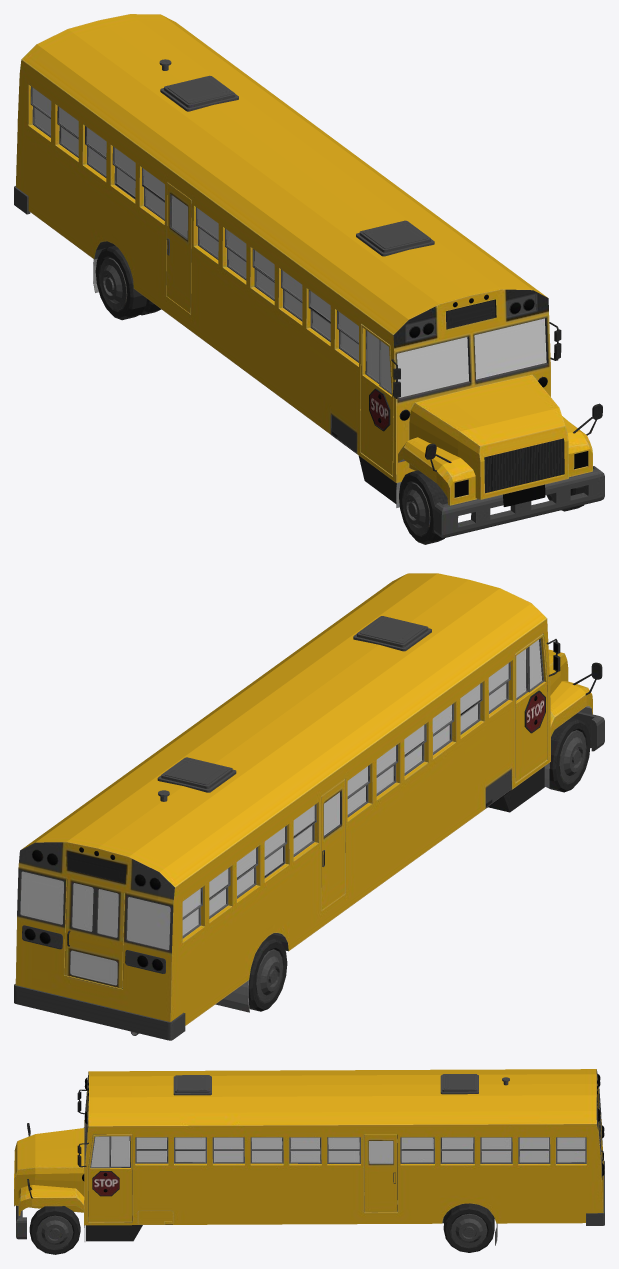
The model's file is prop_school_bus.glb.
The picture shows the model from 3 angles, top to bottom: view 1: azimuth 30°, elevation 25°; view 2: azimuth 150°, elevation 25°; view 3: azimuth 270°, elevation 25°; orthographic projection. The views are drawn at different scales.
Parts seen in each view (by area): view 1: Object_4; view 2: Object_4; view 3: Object_4.
Part boxes in pixels (x1,y1,x2,y2): Object_4: (14,14,604,544); Object_4: (14,573,604,1040); Object_4: (14,1069,604,1254).
Size of the model in its own units: 2.35 by 2.8 by 9.96.
1 material, 1 textured.
